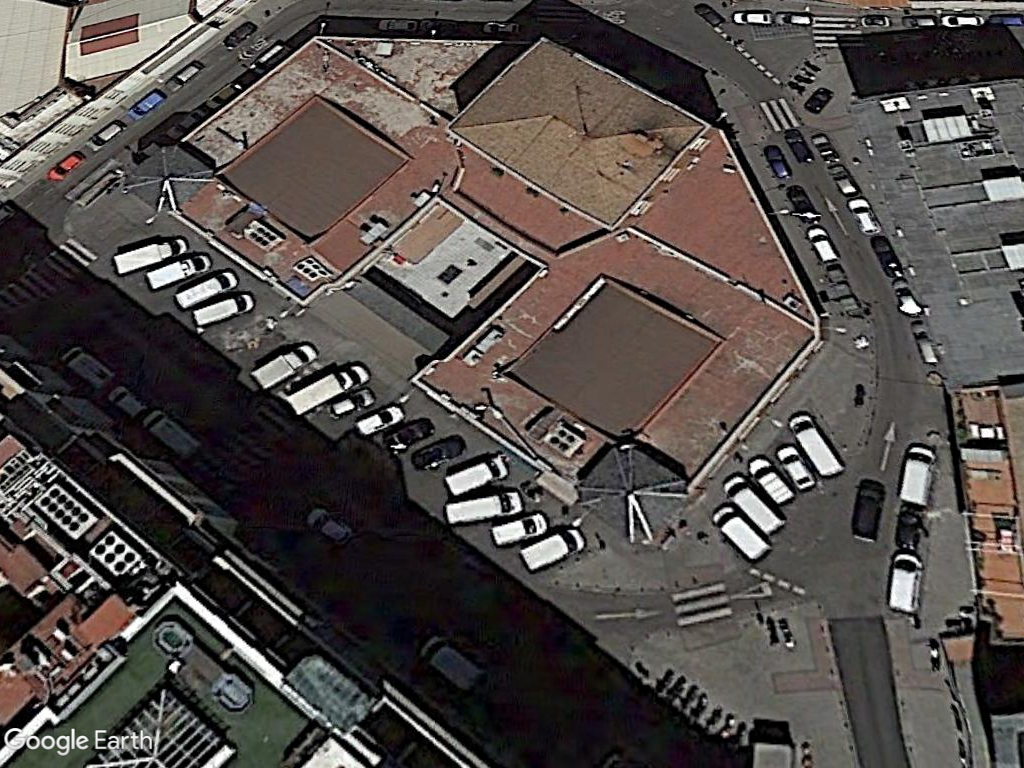car: (846, 474, 891, 544), (801, 222, 843, 266), (844, 196, 886, 237)
truck: (244, 339, 323, 392)
van: (786, 408, 849, 479), (719, 473, 788, 537), (705, 504, 773, 567), (893, 437, 941, 511), (886, 548, 924, 619)
